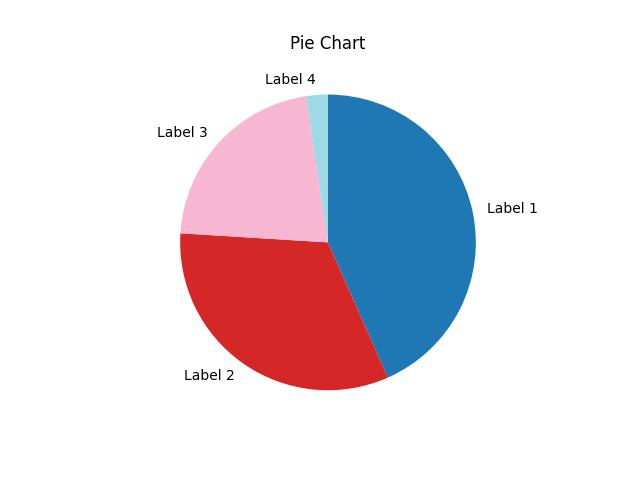sector: (325, 93, 477, 378), (177, 232, 389, 390), (178, 94, 327, 243), (307, 95, 329, 243)
